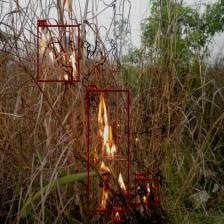fire: (87, 90, 129, 211), (38, 25, 79, 81), (135, 179, 158, 204), (113, 210, 122, 222)
